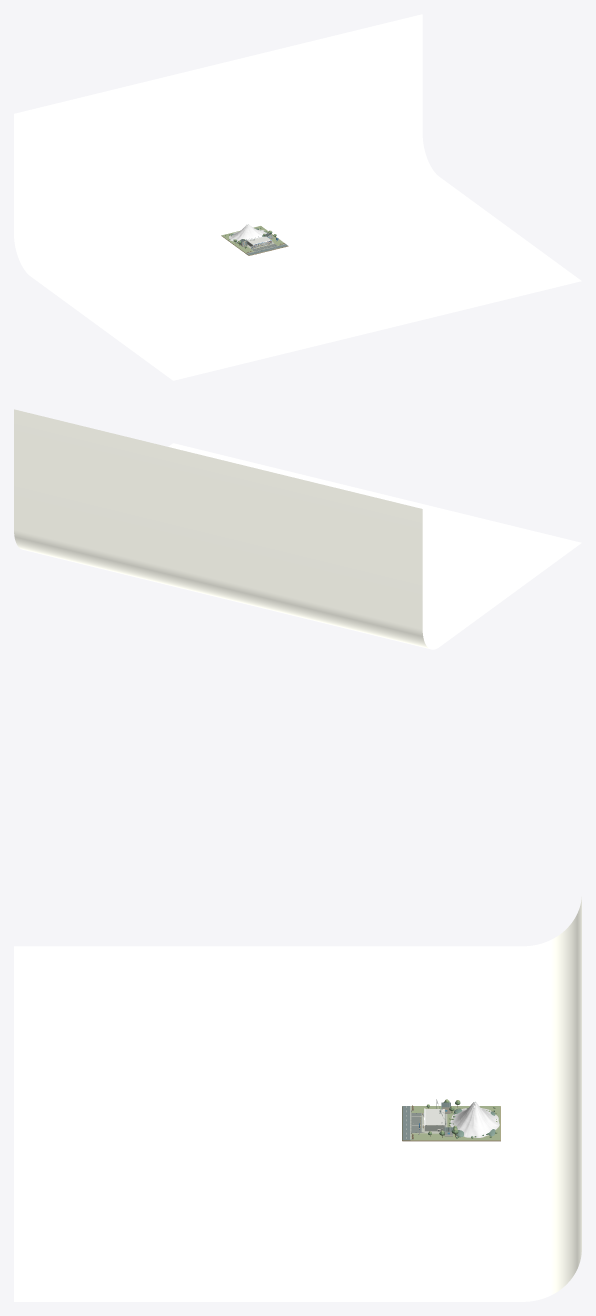
File: store-static-web.glb
The picture shows the model from 3 angles, top to bottom: view 1: azimuth 30°, elevation 25°; view 2: azimuth 150°, elevation 25°; view 3: azimuth 270°, elevation 25°; orthographic projection. The views are drawn at different scales.
Parts seen in each view (by area): view 1: WORLD / distant scenery batch, STORE / near static environment batch; view 2: WORLD / distant scenery batch; view 3: WORLD / distant scenery batch, STORE / near static environment batch.
Part boxes in pixels (<box>): WORLD / distant scenery batch: <box>14,14,581,380</box>; STORE / near static environment batch: <box>225,224,287,255</box>; WORLD / distant scenery batch: <box>14,409,581,649</box>; WORLD / distant scenery batch: <box>14,897,581,1301</box>; STORE / near static environment batch: <box>402,1099,497,1140</box>.
Size of the model in its own units: 400 by 141 by 270.
Materials: 59 (11 with a texture image).
